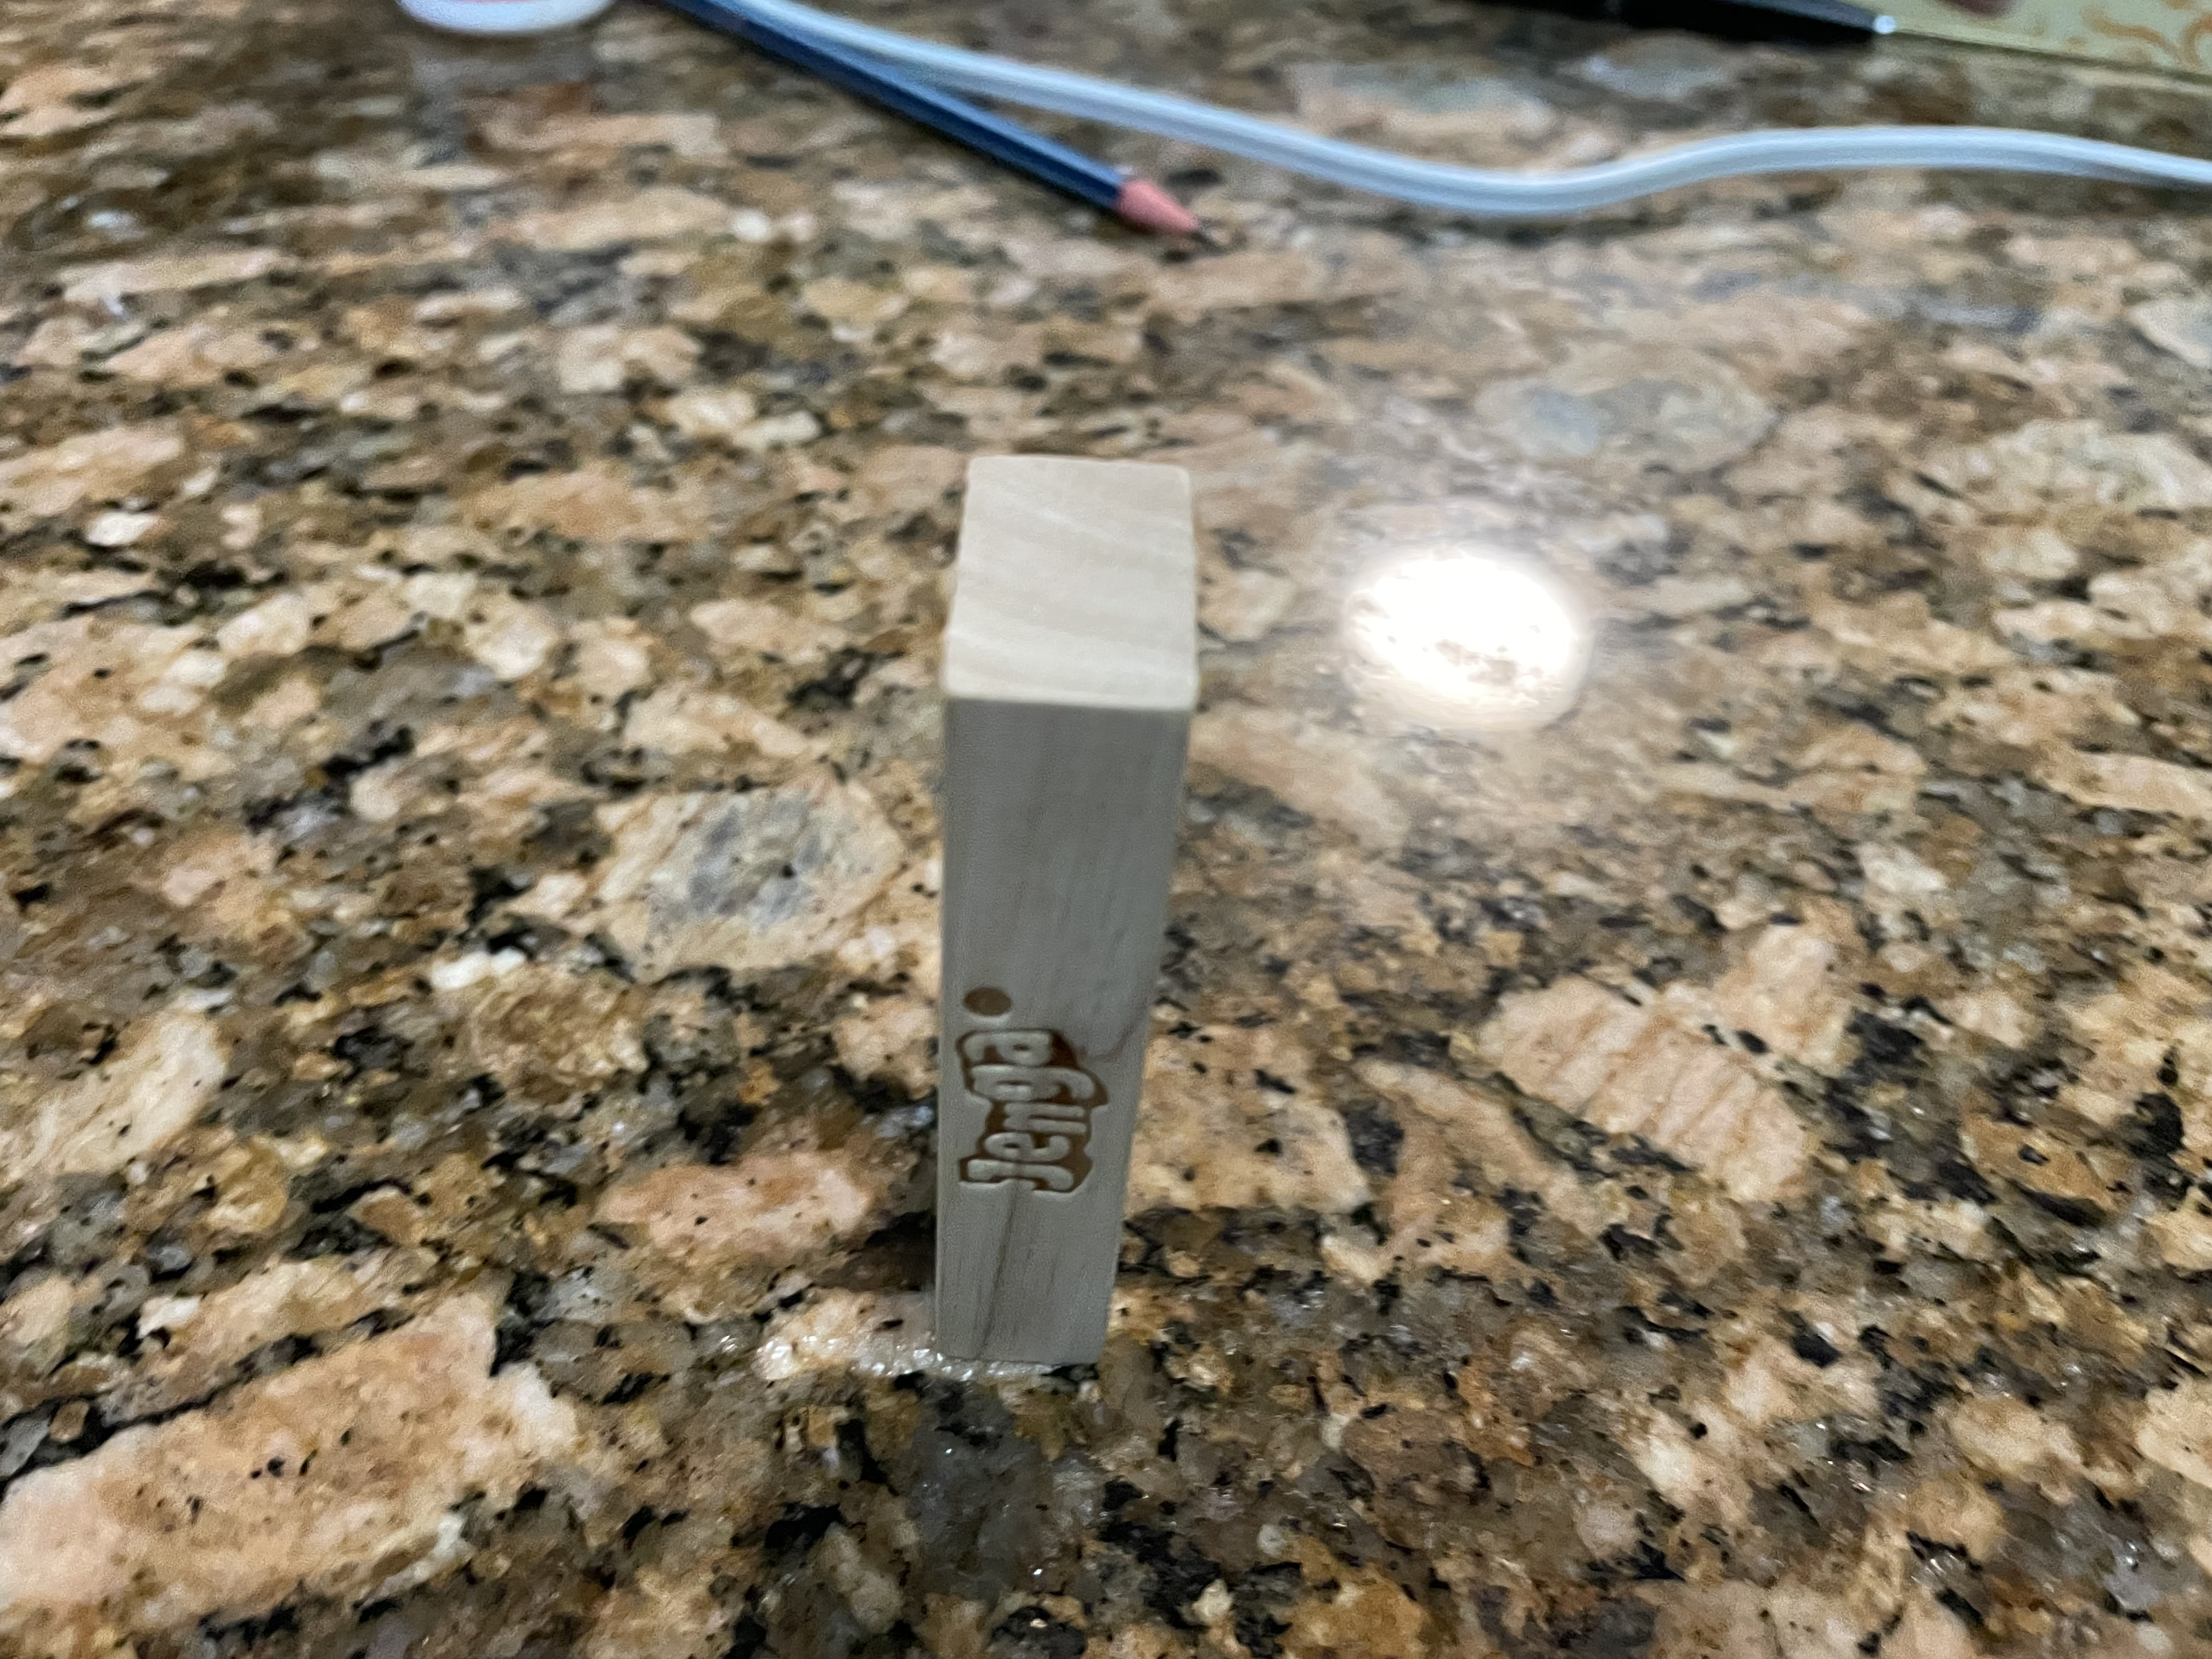jenga: (916, 450, 1190, 1373)
